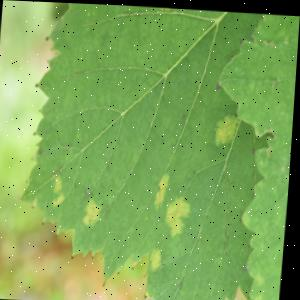Folha: (14, 1, 278, 300)
Fungo: (165, 193, 194, 236), (214, 110, 241, 145), (155, 169, 172, 210), (83, 196, 105, 226), (52, 172, 69, 206), (152, 245, 165, 270), (54, 172, 65, 192), (33, 196, 40, 207), (133, 260, 139, 270), (147, 289, 154, 297), (34, 82, 39, 91), (182, 111, 188, 118), (158, 6, 172, 9), (118, 268, 124, 274), (217, 79, 221, 87), (106, 280, 110, 288), (32, 155, 37, 161), (34, 130, 38, 137), (26, 179, 30, 185), (45, 34, 49, 40), (73, 254, 77, 259), (232, 300, 239, 300)
